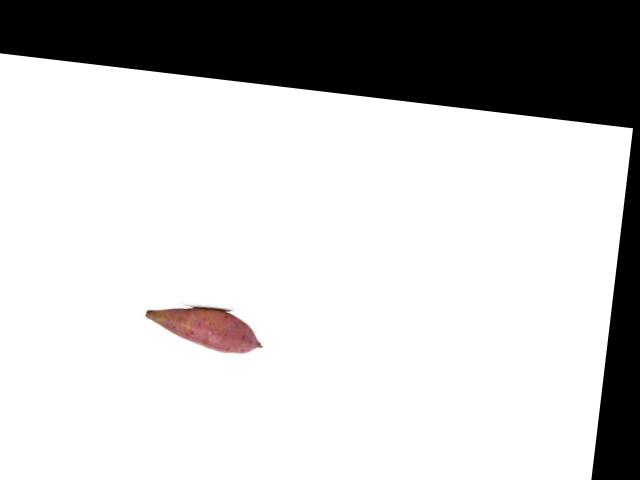sweet_potato: (142, 303, 266, 356)
